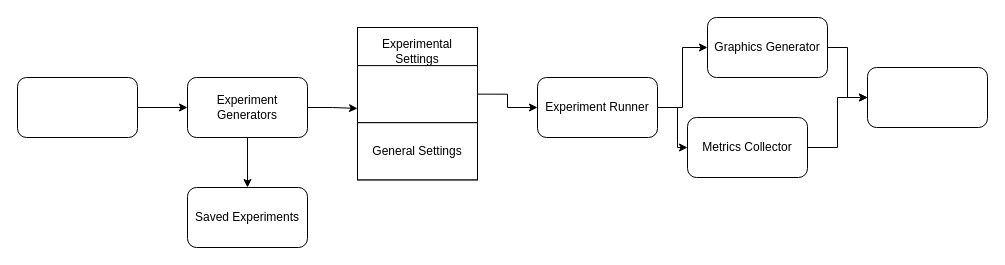
Image size: 1005x265. Some labels were removed from this diagram. The centre of each missing label's shape, as x and y in pixels:
"Default Settings" goes at (x=77, y=107).
"Policy Settings" goes at (x=417, y=94).
"Saved Run Experiments" goes at (x=927, y=97).
